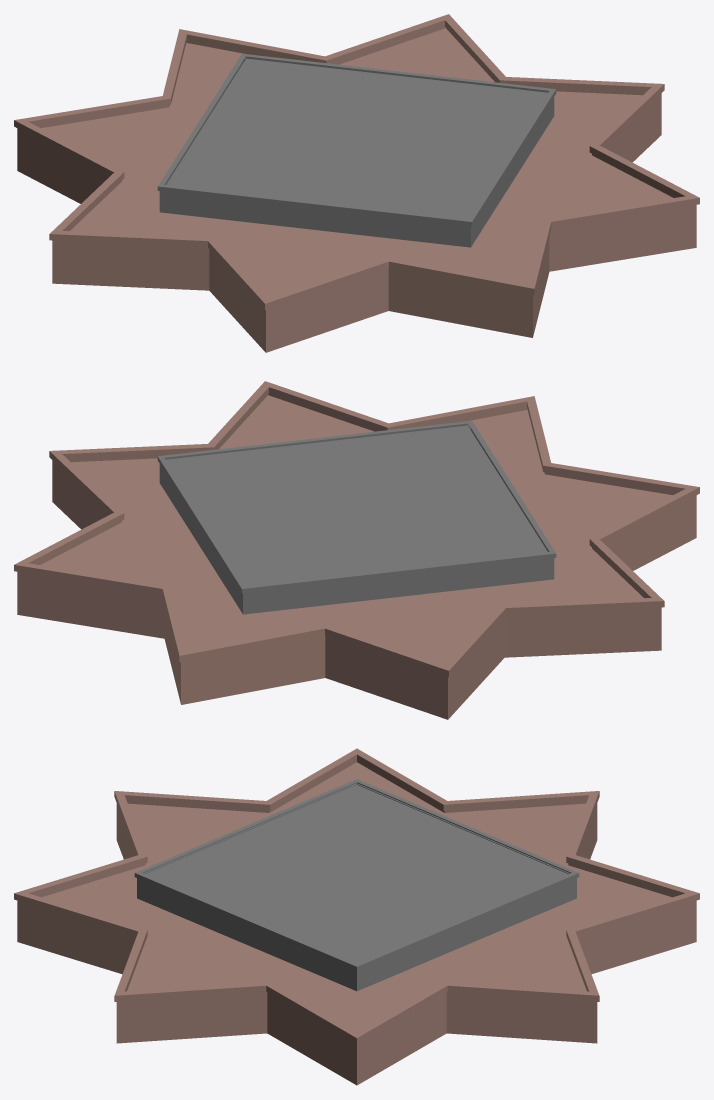
File: dizuo1.fbx
The picture shows the model from 3 angles, top to bottom: view 1: azimuth 30°, elevation 25°; view 2: azimuth 150°, elevation 25°; view 3: azimuth 270°, elevation 25°; orthographic projection. The views are drawn at different scales.
Parts seen in each view (by area): view 1: dizuo1; view 2: dizuo1; view 3: dizuo1.
Part boxes in pixels (x1,y1,x2,y2): dizuo1: (14, 14, 699, 352); dizuo1: (14, 381, 699, 719); dizuo1: (14, 748, 699, 1085).
Size of the model in its own units: 418 by 46.42 by 418.
